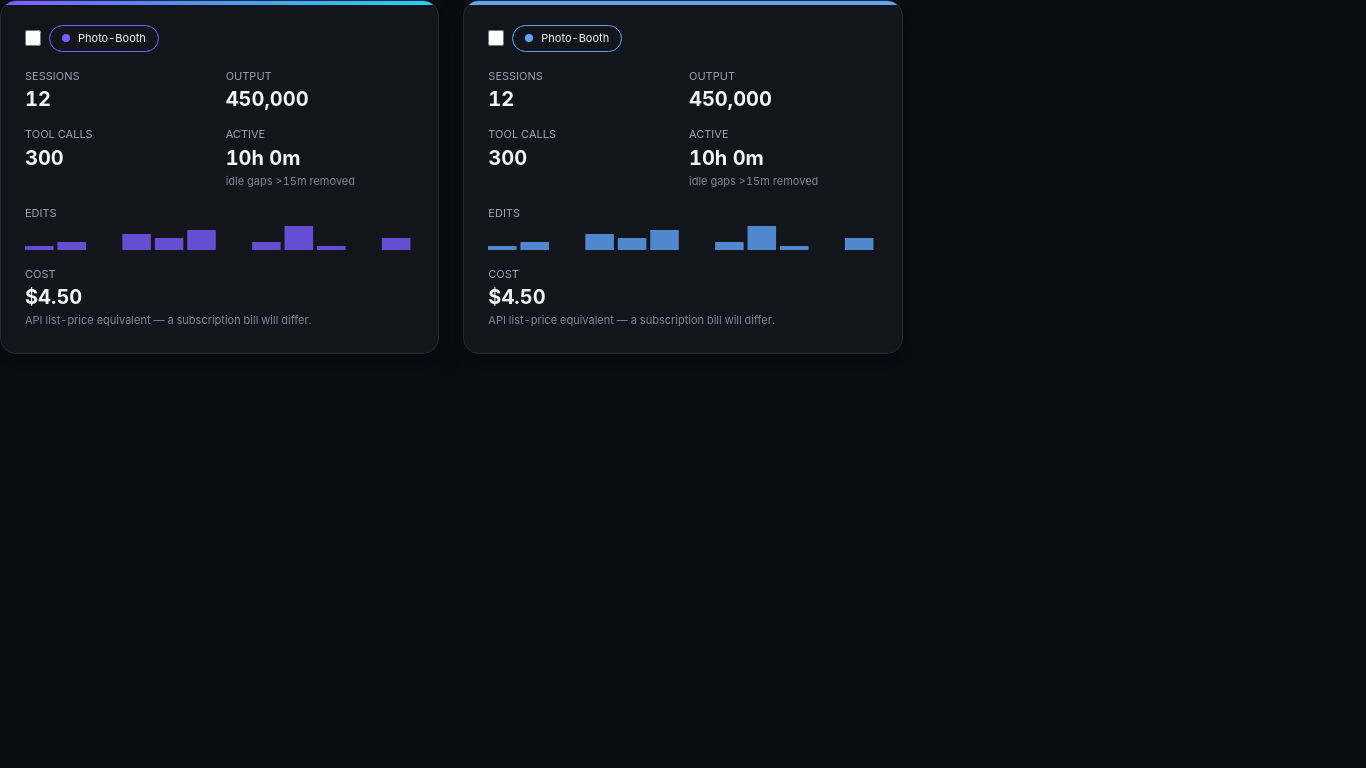
Test: §6.8 Projects & Code — saying two projects are the same (ADR-040) › states the failure where the action was taken, and keeps the selection
The width and height of the screenshot is (1366, 768).
Click the checkbox with test id "project-card-tick-1": [33, 38] box 25,30 -> 41,46
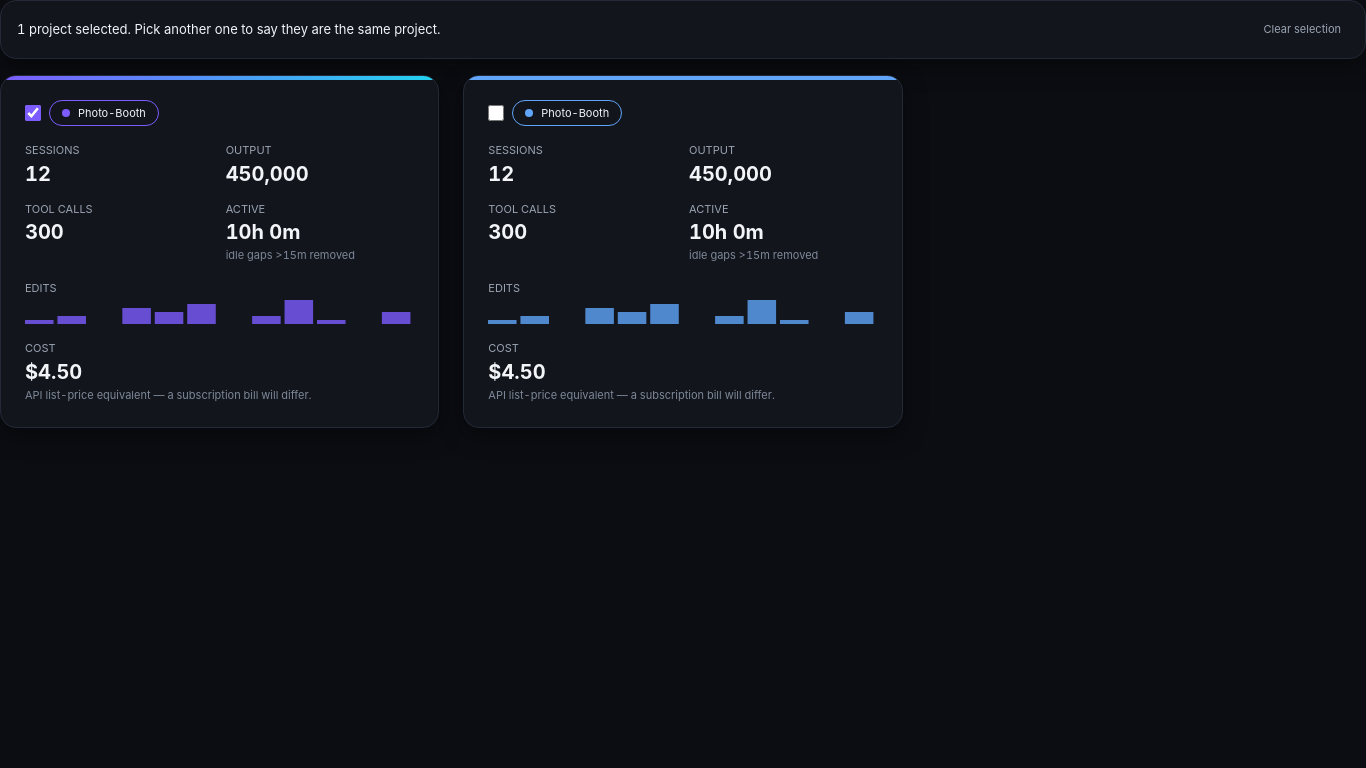
Click the checkbox with test id "project-card-tick-2": [496, 113] box 488,105 -> 504,121
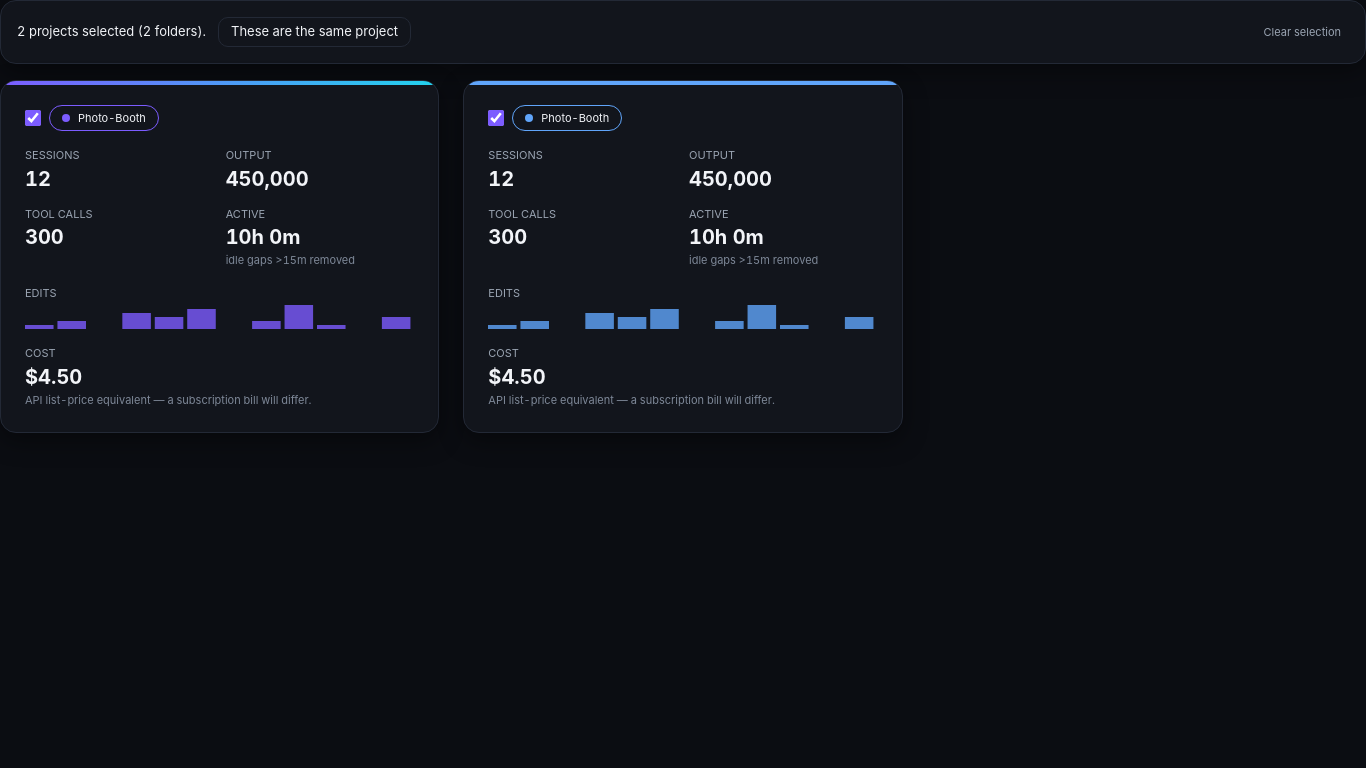
Click the button with test id "same-project-start": [315, 32] box 218,17 -> 411,46
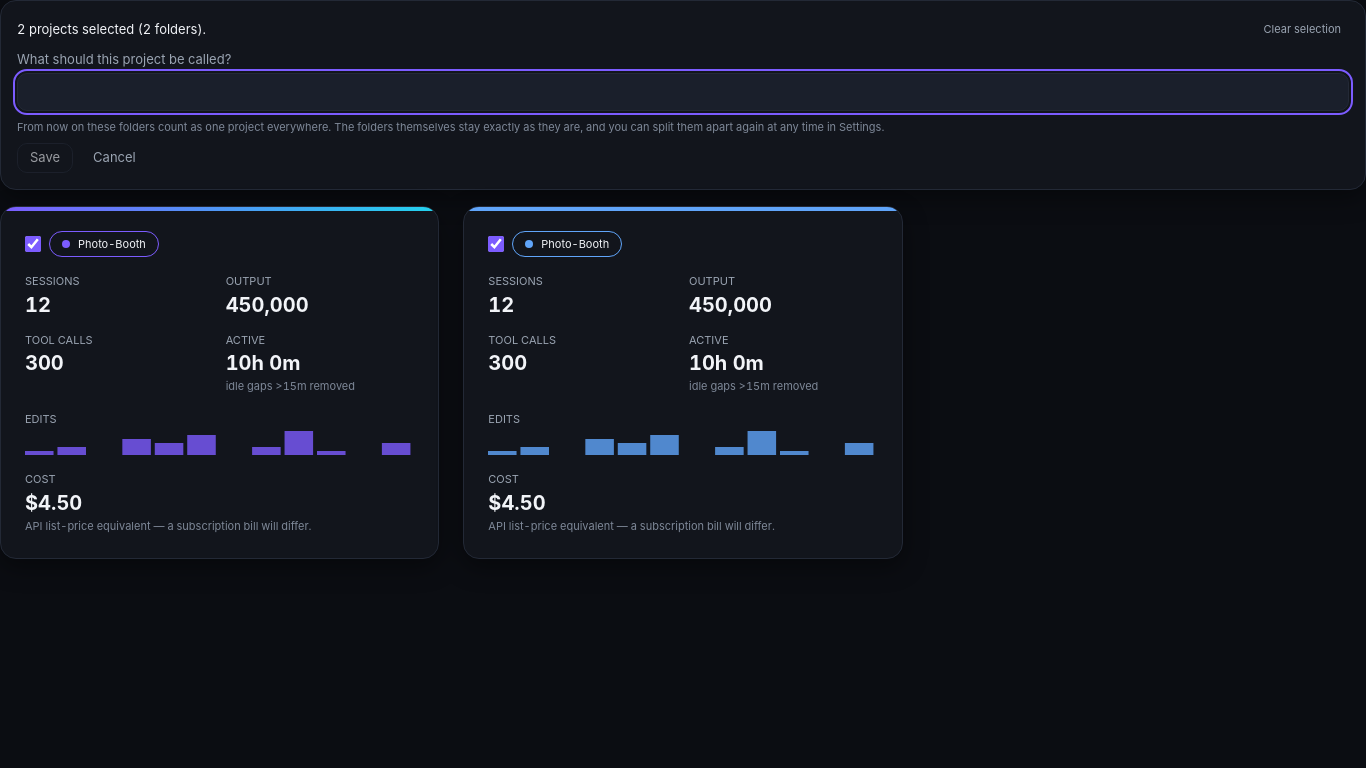
In the field with test id "same-project-name": [683, 92] box 17,73 -> 1349,110, type "Family App"
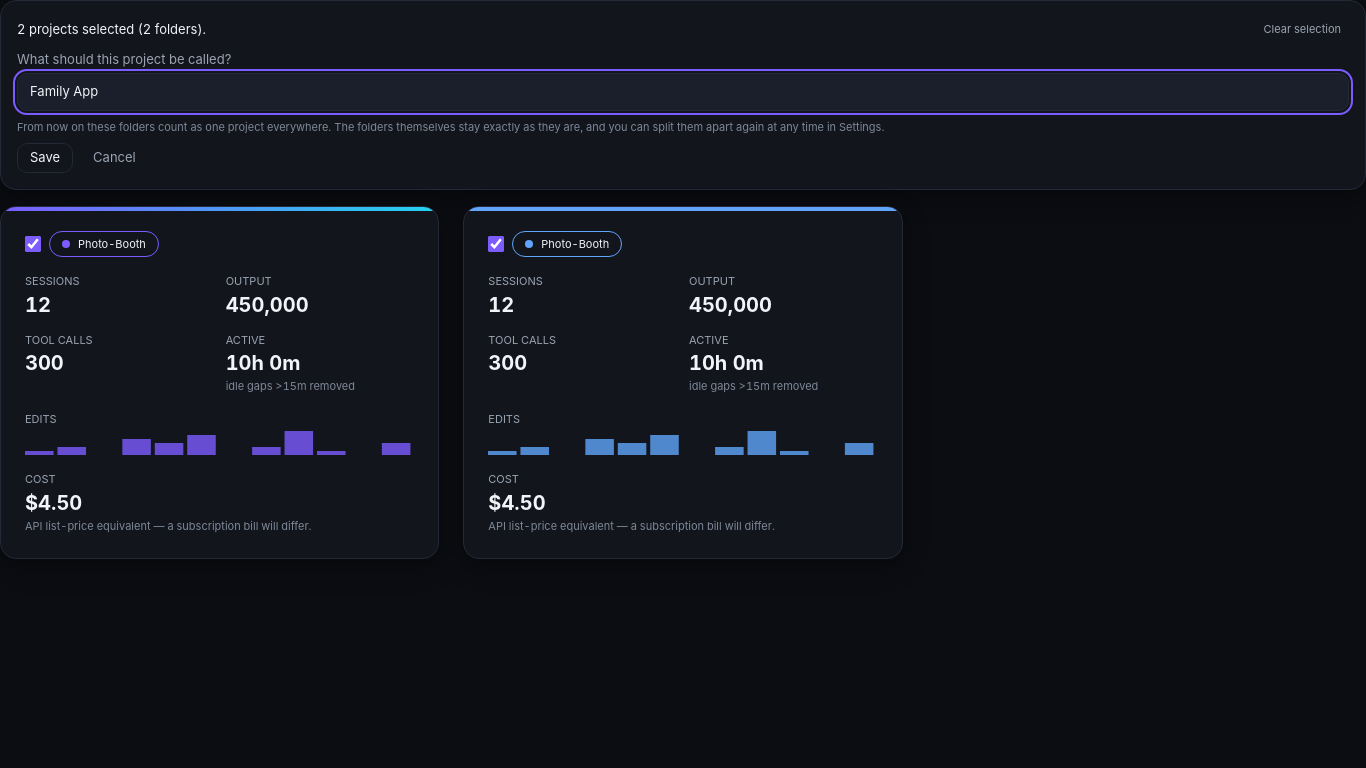
Click the button with test id "same-project-save": [45, 158] box 17,143 -> 73,172
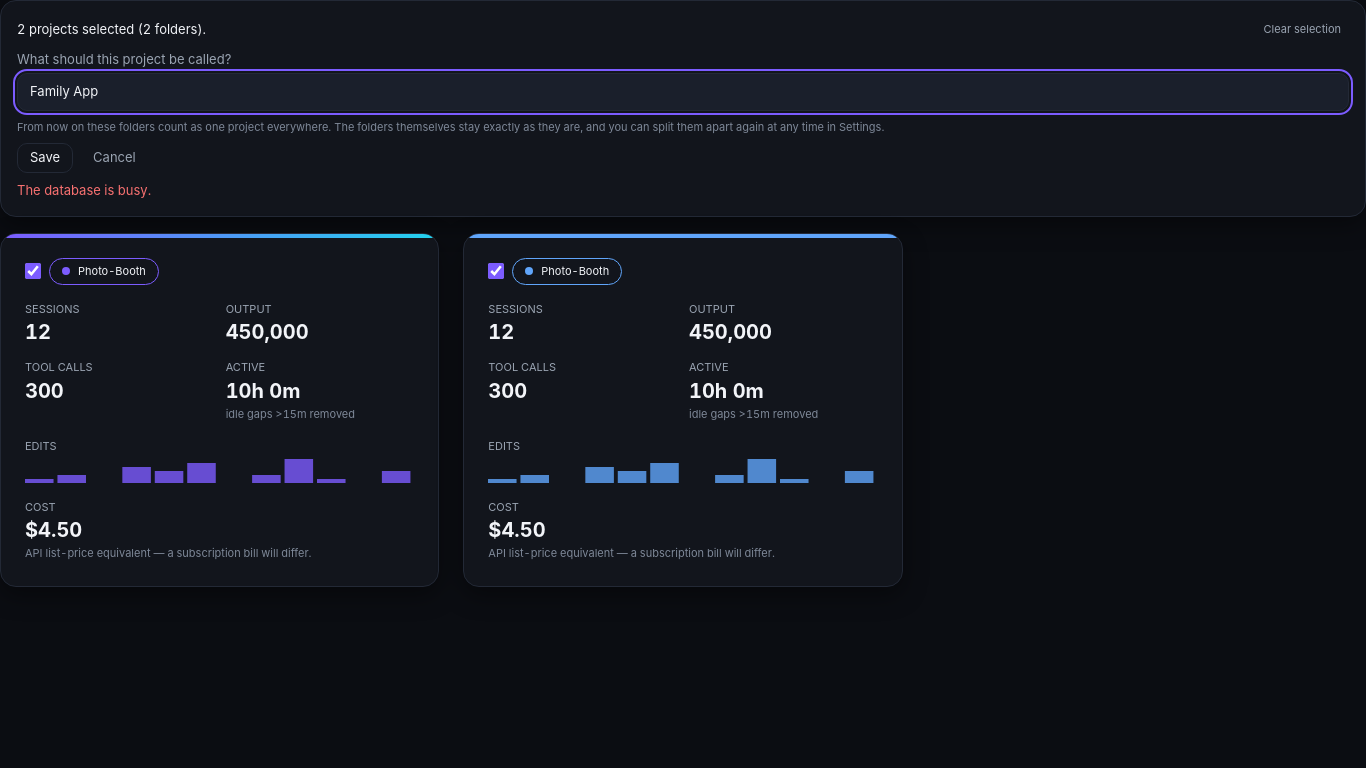
Now the checkbox with test id "project-card-tick-1" is checked, box 25,263 -> 41,279
Now the text with test id "same-project-error" reads "The database is busy.", box 17,182 -> 151,198
